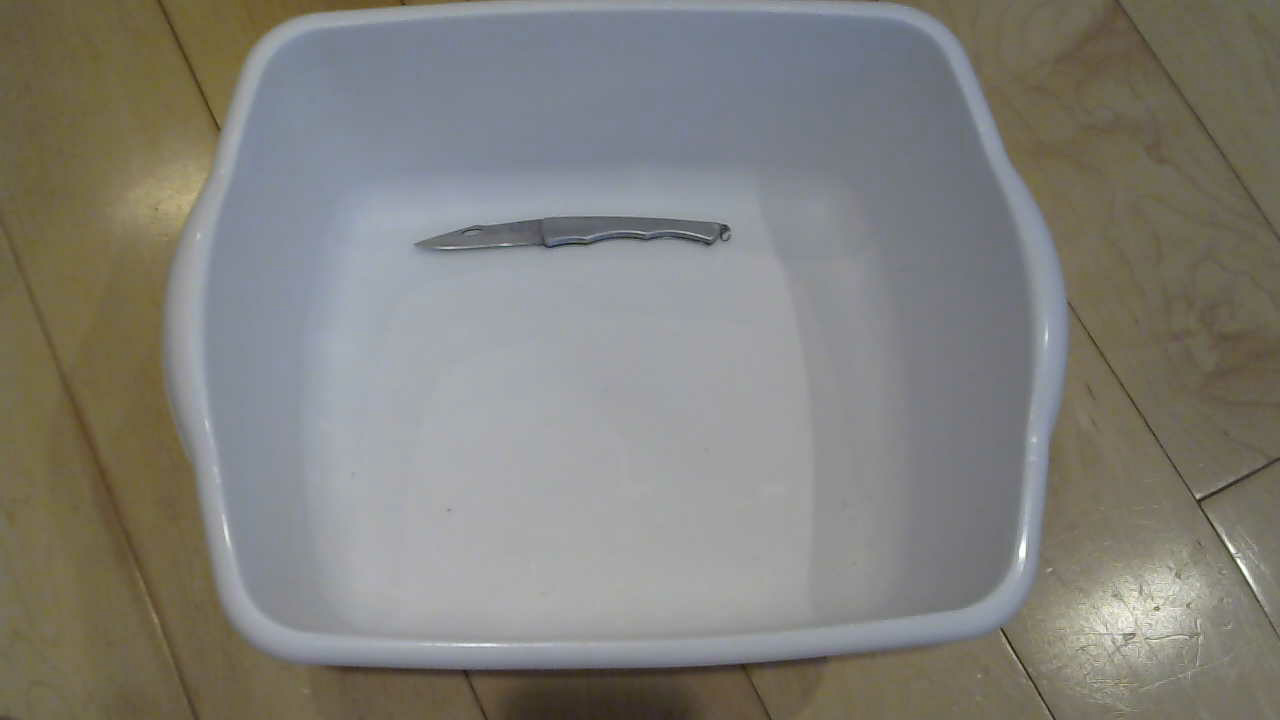knife: (410, 213, 755, 266)
